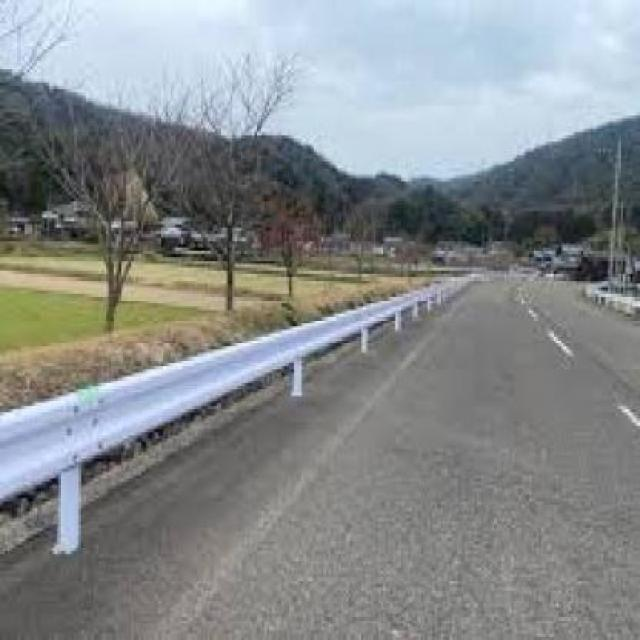Guard rail: (1, 275, 459, 590)
